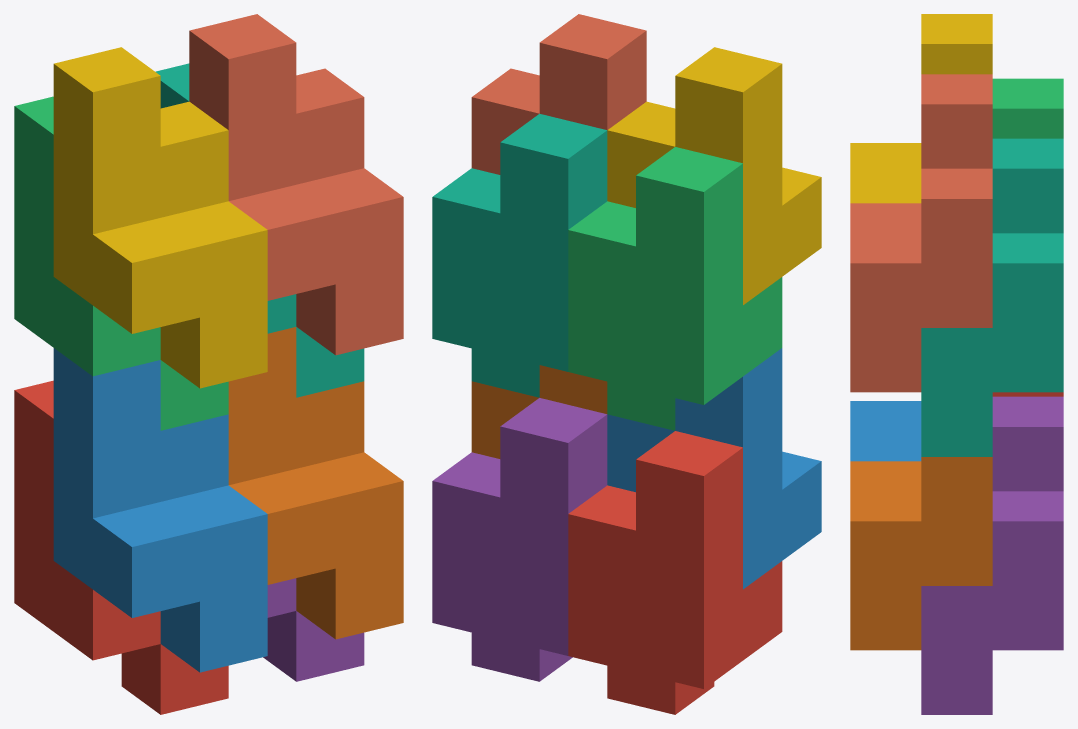
The model's file is tiling.obj.
3 views of the same model, side by side, from view 1: azimuth 30°, elevation 25°; view 2: azimuth 150°, elevation 25°; view 3: azimuth 270°, elevation 25° (orthographic). The views are drawn at different scales.
Parts seen in each view (by area): view 1: copy_1_domain_4, copy_1_domain_2, copy_1_domain_8, copy_1_domain_6, copy_1_domain_1, copy_1_domain_3, copy_1_domain_5, copy_1_domain_7; view 2: copy_1_domain_1, copy_1_domain_3, copy_1_domain_5, copy_1_domain_7, copy_1_domain_4, copy_1_domain_2, copy_1_domain_8, copy_1_domain_6; view 3: copy_1_domain_8, copy_1_domain_5, copy_1_domain_7, copy_1_domain_6, copy_1_domain_4, copy_1_domain_2, copy_1_domain_3, copy_1_domain_1.
Boxes of the visible parts, x1=… form: copy_1_domain_4: x1=53, y1=47, x2=267, y2=388; copy_1_domain_2: x1=53, y1=348, x2=267, y2=672; copy_1_domain_8: x1=189, y1=14, x2=403, y2=355; copy_1_domain_6: x1=228, y1=327, x2=403, y2=639; copy_1_domain_1: x1=14, y1=380, x2=228, y2=714; copy_1_domain_3: x1=14, y1=96, x2=228, y2=430; copy_1_domain_5: x1=263, y1=578, x2=364, y2=681; copy_1_domain_7: x1=155, y1=63, x2=364, y2=397; copy_1_domain_1: x1=568, y1=431, x2=782, y2=714; copy_1_domain_3: x1=568, y1=147, x2=782, y2=430; copy_1_domain_5: x1=432, y1=398, x2=607, y2=681; copy_1_domain_7: x1=432, y1=113, x2=607, y2=397; copy_1_domain_4: x1=607, y1=47, x2=821, y2=304; copy_1_domain_2: x1=607, y1=348, x2=821, y2=589; copy_1_domain_8: x1=471, y1=14, x2=646, y2=174; copy_1_domain_6: x1=471, y1=365, x2=607, y2=458; copy_1_domain_8: x1=850, y1=74, x2=992, y2=392; copy_1_domain_5: x1=921, y1=396, x2=1063, y2=714; copy_1_domain_7: x1=921, y1=138, x2=1063, y2=456; copy_1_domain_6: x1=850, y1=457, x2=992, y2=650; copy_1_domain_4: x1=850, y1=14, x2=992, y2=203; copy_1_domain_2: x1=850, y1=401, x2=921, y2=461; copy_1_domain_3: x1=992, y1=78, x2=1063, y2=138; copy_1_domain_1: x1=992, y1=392, x2=1063, y2=396.
Size of the model in its own units: 4 by 9 by 3.
